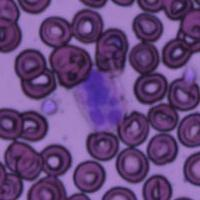N: (73, 68, 129, 132)
